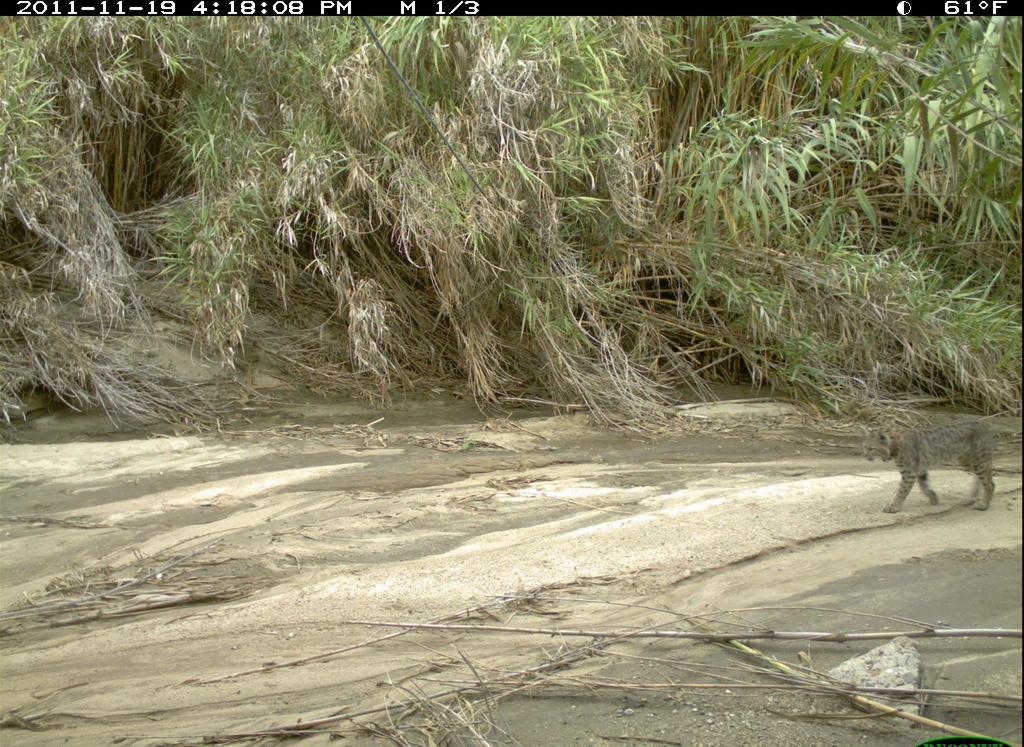bobcat: (854, 395, 1014, 521)
